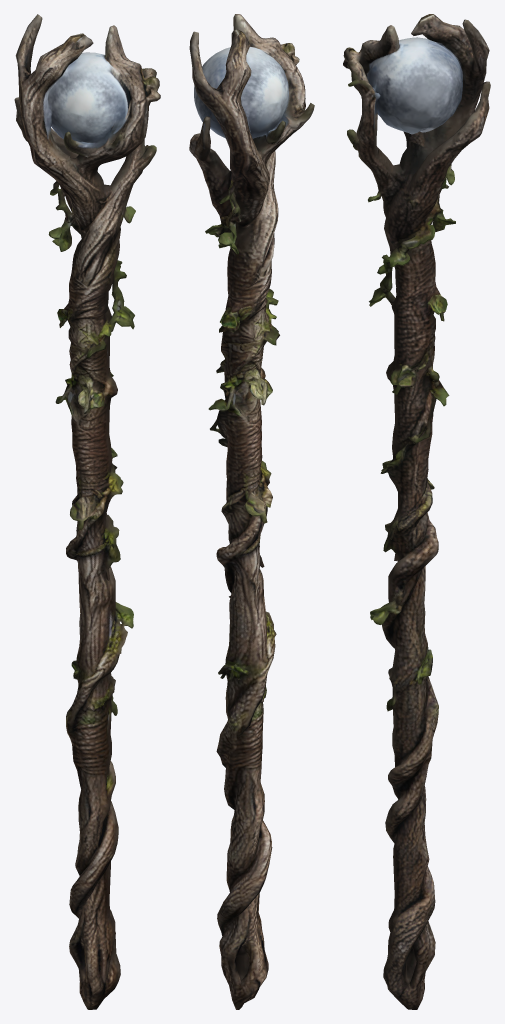
Rendered from moonstone_staff.glb.
3 renders of one model, left to right at view 1: azimuth 90°, elevation 25°; view 2: azimuth 150°, elevation 25°; view 3: azimuth 270°, elevation 25°, orthographic.
Visible parts, largest first — view 1: moonstone_staff; view 2: moonstone_staff; view 3: moonstone_staff.
Boxes of the visible parts, box(x1,y1,x2,y2) form: moonstone_staff: box(14, 14, 160, 1009); moonstone_staff: box(189, 14, 314, 1009); moonstone_staff: box(343, 14, 490, 1009).
Size of the model in its own units: 0.1843 by 1.77 by 0.2374.
Materials: 1 (1 with a texture image).
